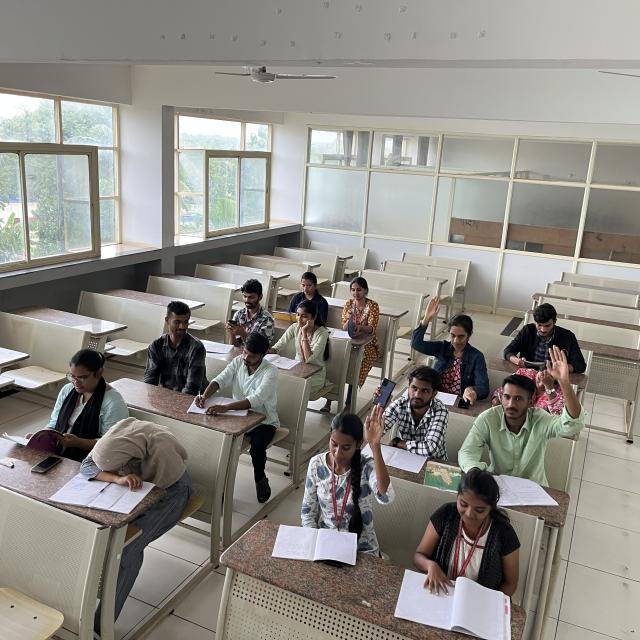Hand Rising: (469, 342, 584, 464), (308, 401, 393, 529), (406, 285, 495, 380)
Reading: (412, 471, 518, 607), (3, 339, 134, 444), (330, 258, 394, 350), (270, 263, 336, 321), (278, 302, 324, 373)
Sleeping: (81, 412, 195, 494)
Using Phone: (369, 358, 450, 439), (208, 269, 282, 348)
Writing: (188, 335, 290, 431)
